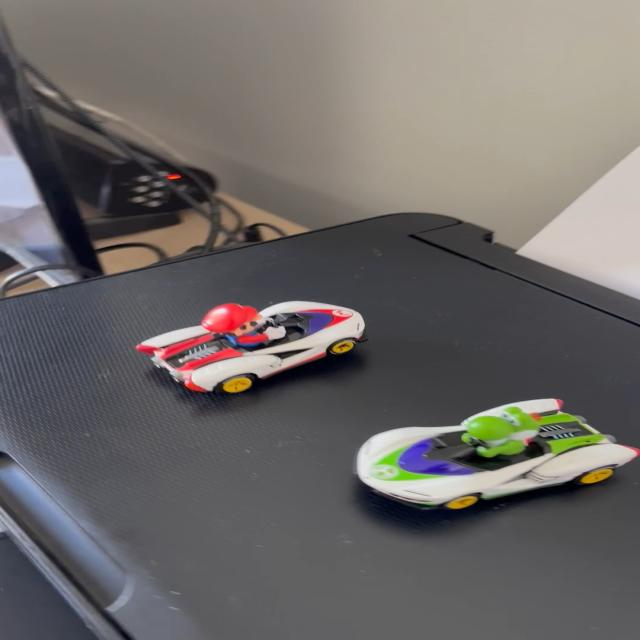mario: (121, 299, 393, 403)
yoshi: (336, 386, 635, 510)
